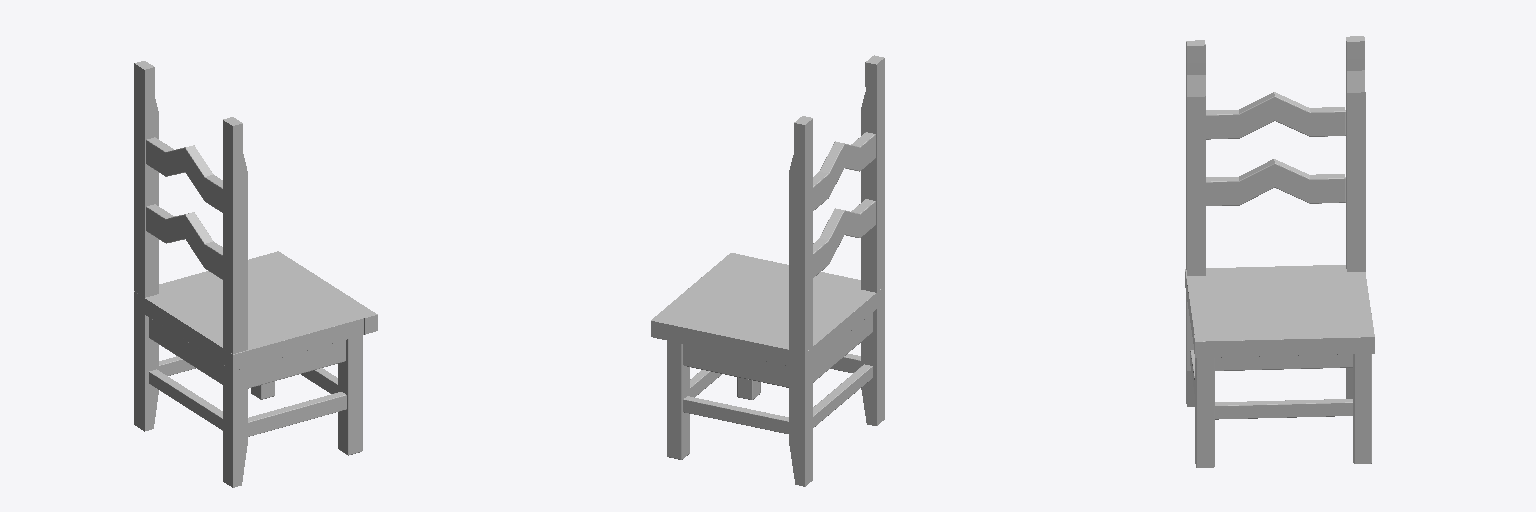
The model's file is chair2.obj.
The picture shows the model from 3 angles: view 1: azimuth 30°, elevation 25°; view 2: azimuth 150°, elevation 25°; view 3: azimuth 270°, elevation 25°; orthographic projection.
Bounding box in the file's own units: 32.52 × 70.82 × 33.63.